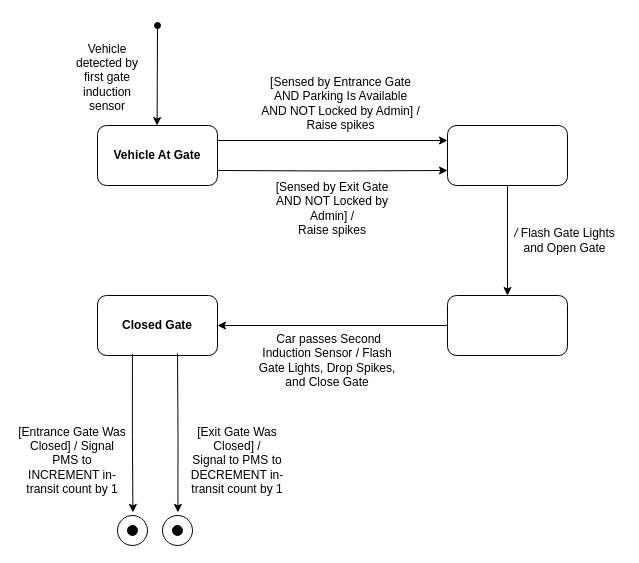
Image size: 639x563. Some labels were removed from this diagram. The shapes that lost their labels are listed below. From the top down, each one's centre as x and y in pixels, then its label:
the point at 507,155: Passable Gate
the point at 507,325: Opened Gate do: remain open until car passes.
